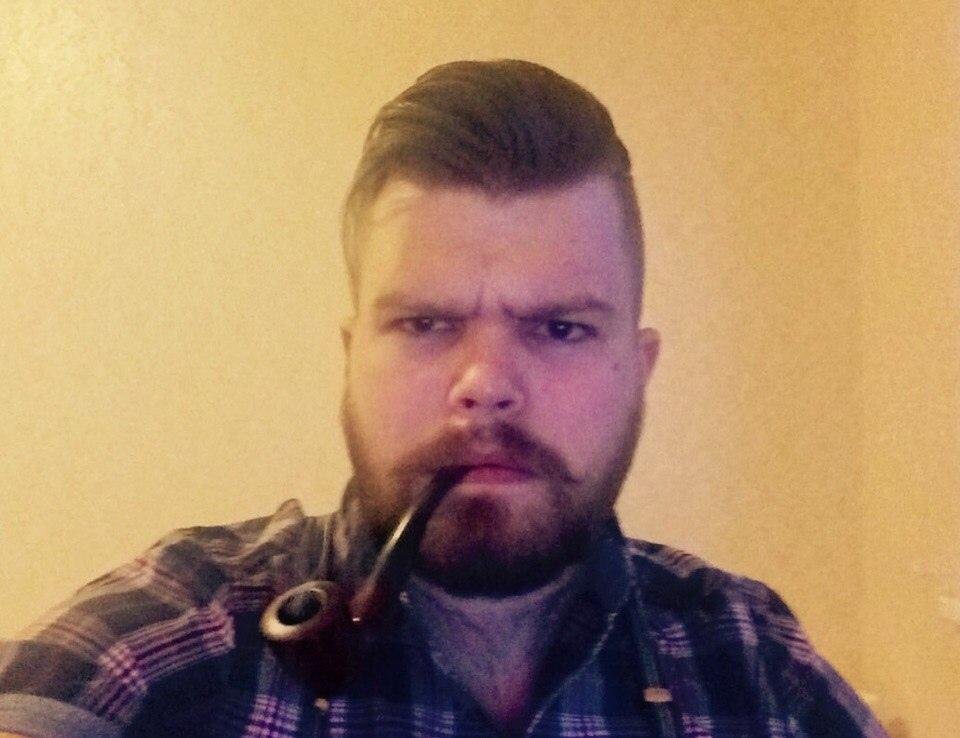trubka: (260, 464, 475, 697)
